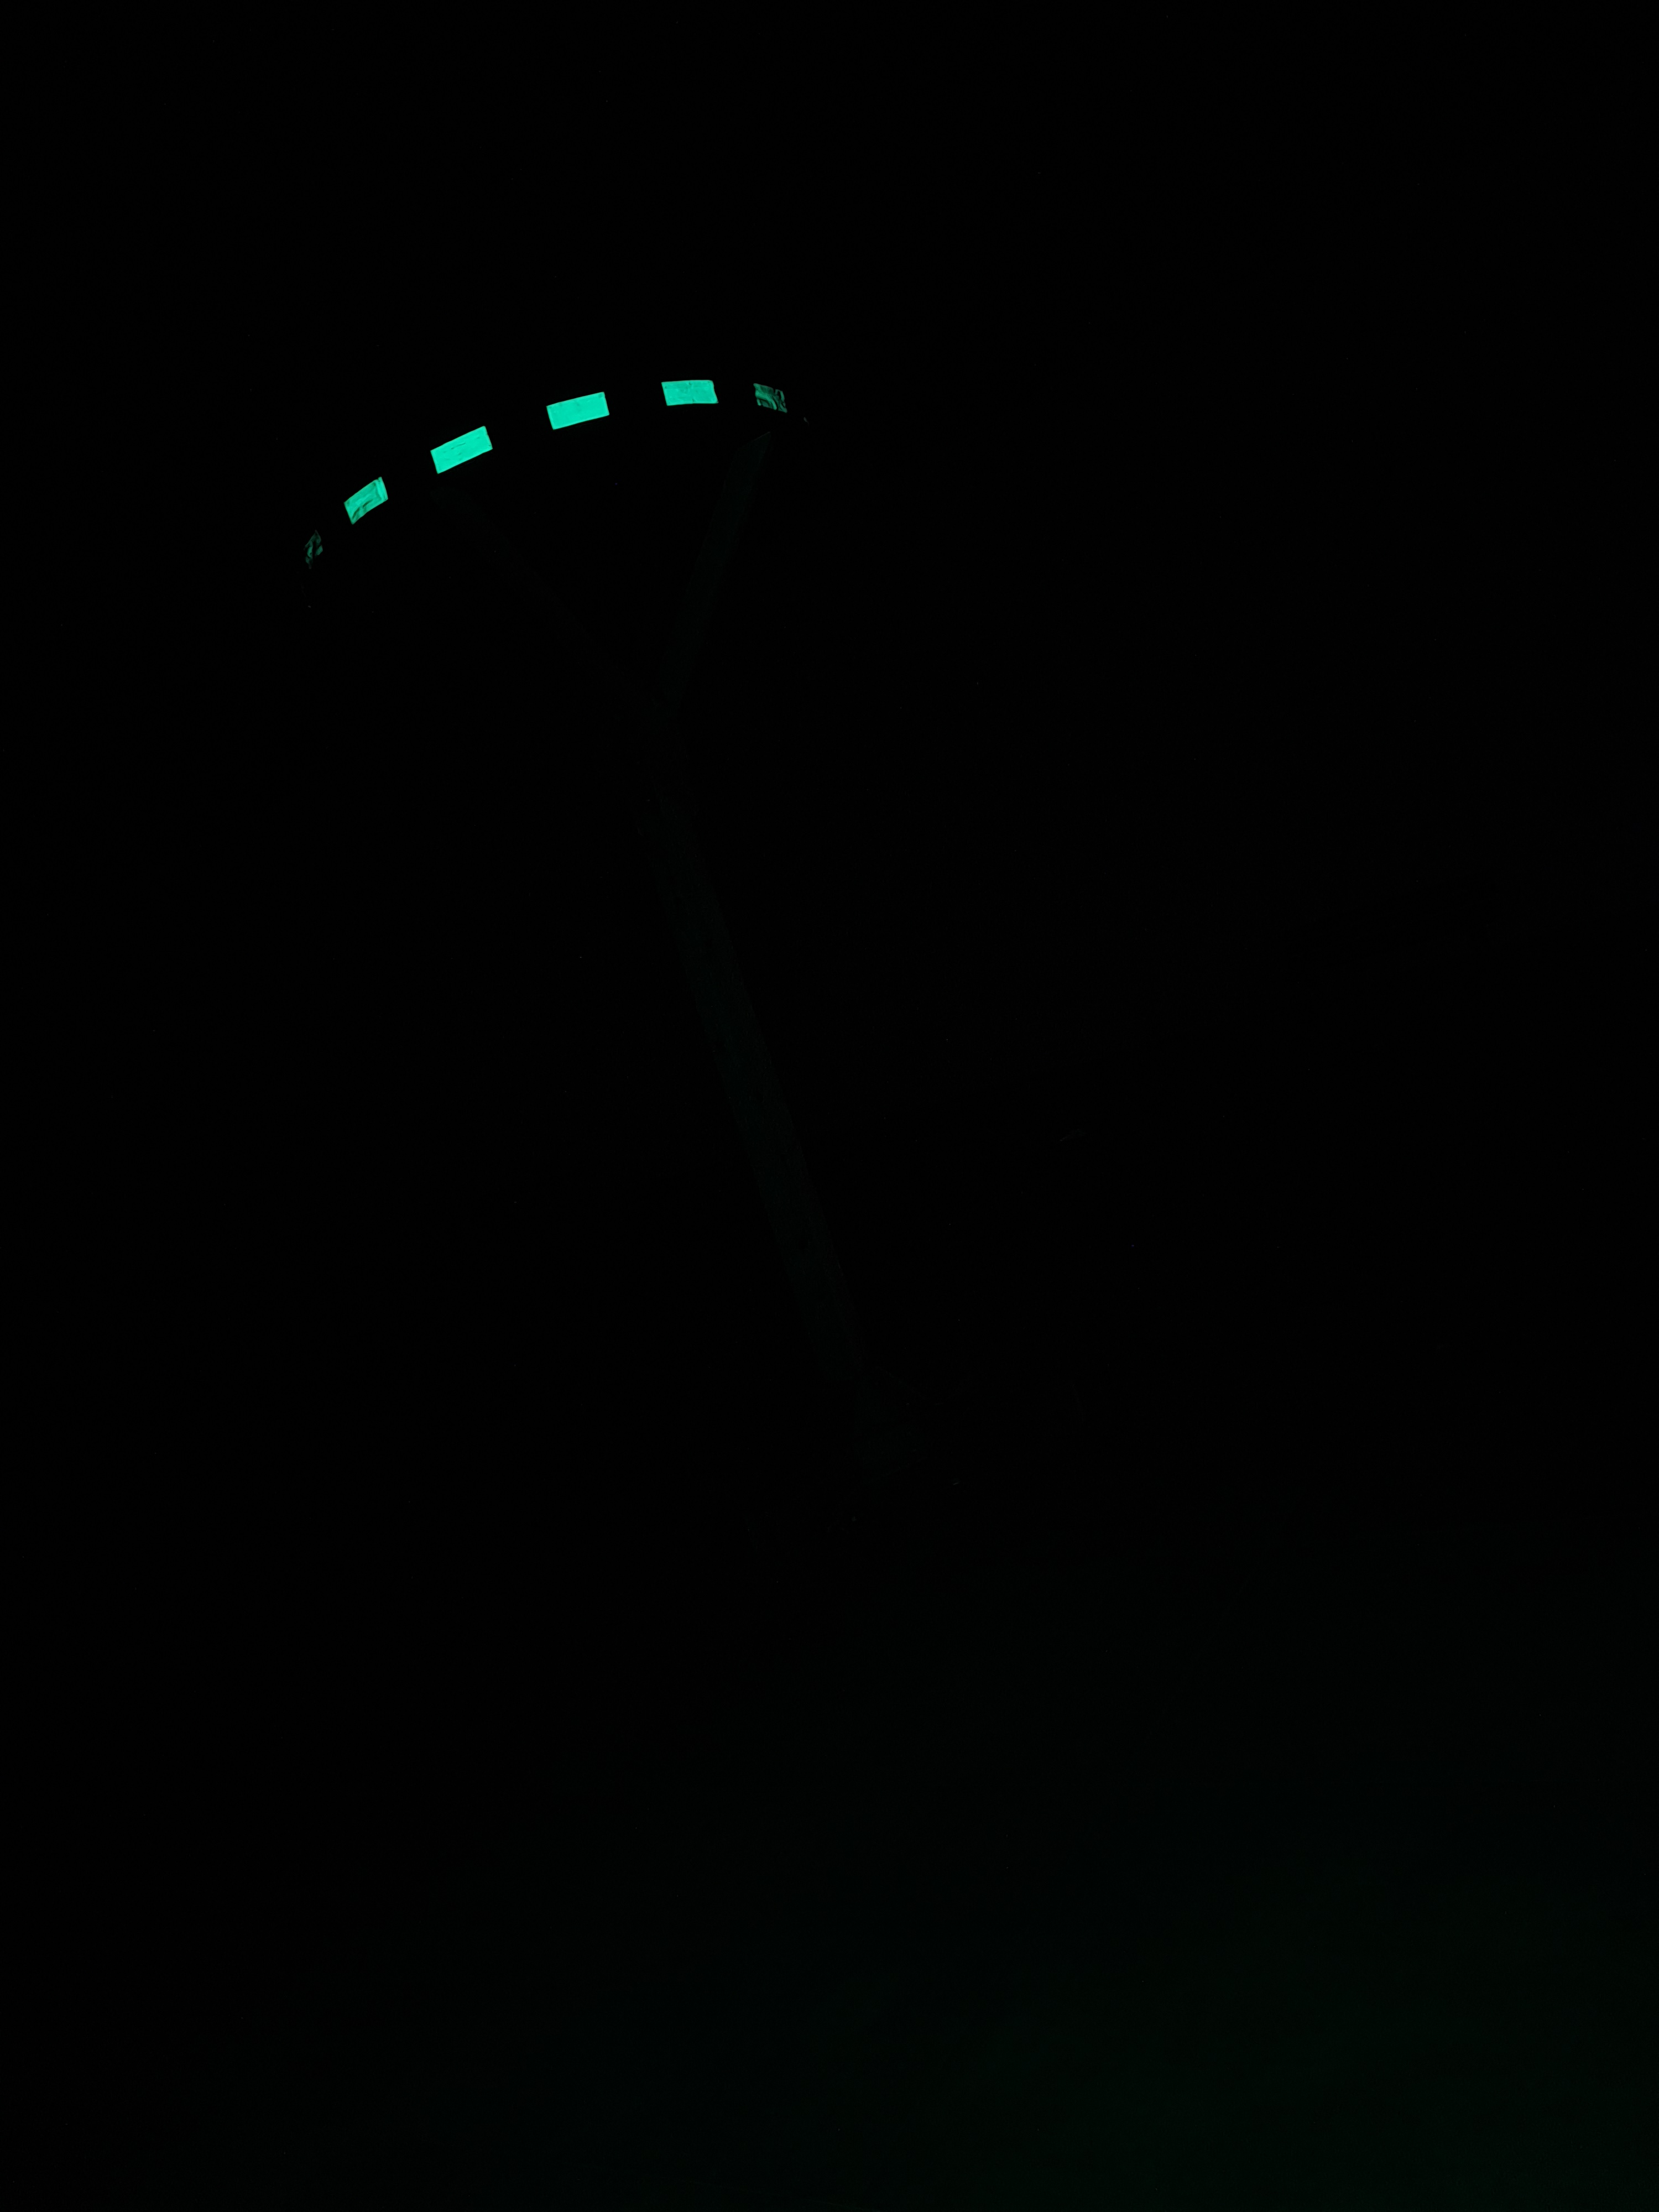hoop: (272, 369, 796, 568)
